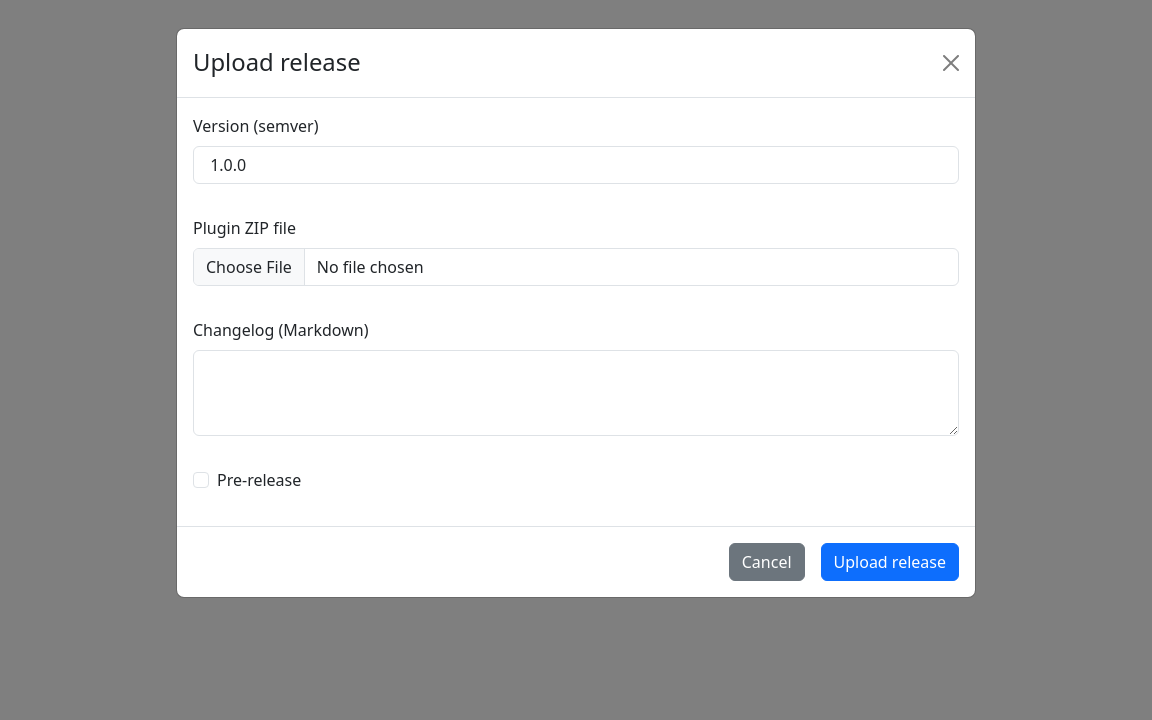
Release form uses the returned publication eligibility and retained operation › closes only after a confirmed eligible response (eligible=true)
Earlier steps of the test are not shown.
Later steps or results of the test are not shown.
Type " changelog " into the text box named "Changelog (Markdown)".
click(576, 393); type(" changelog ")  # box [193,350,959,436]
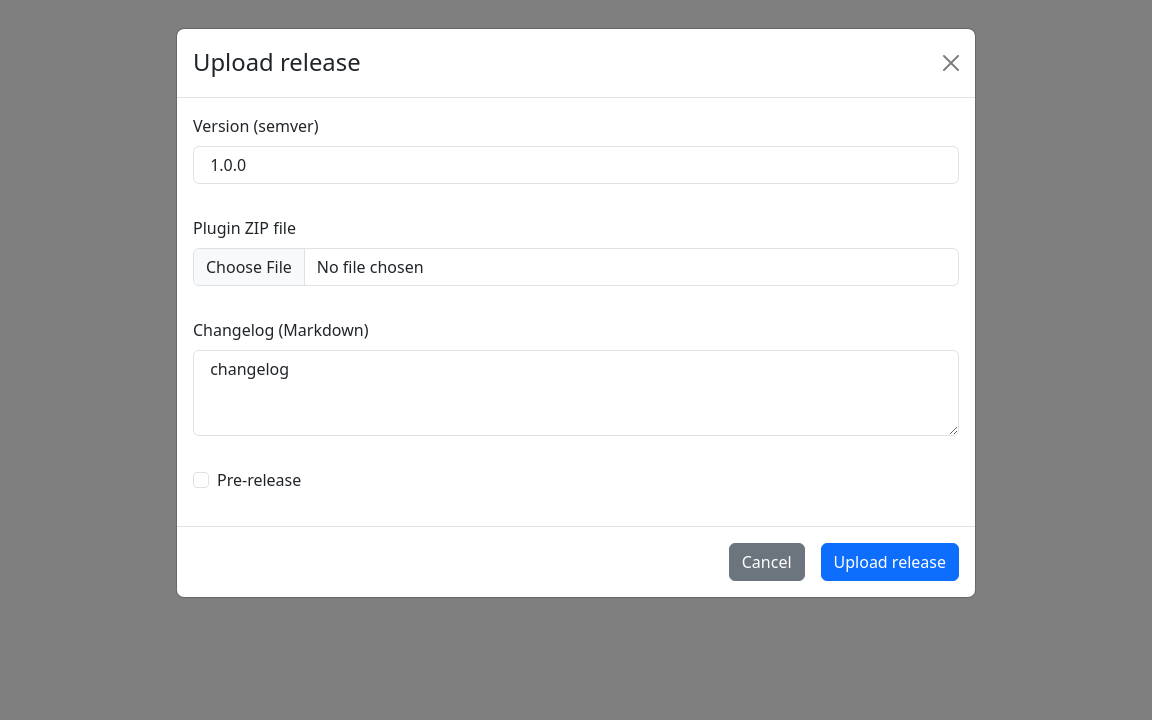
Click the checkbox labelled "Pre-release".
click(201, 480)  # box [193,472,209,488]
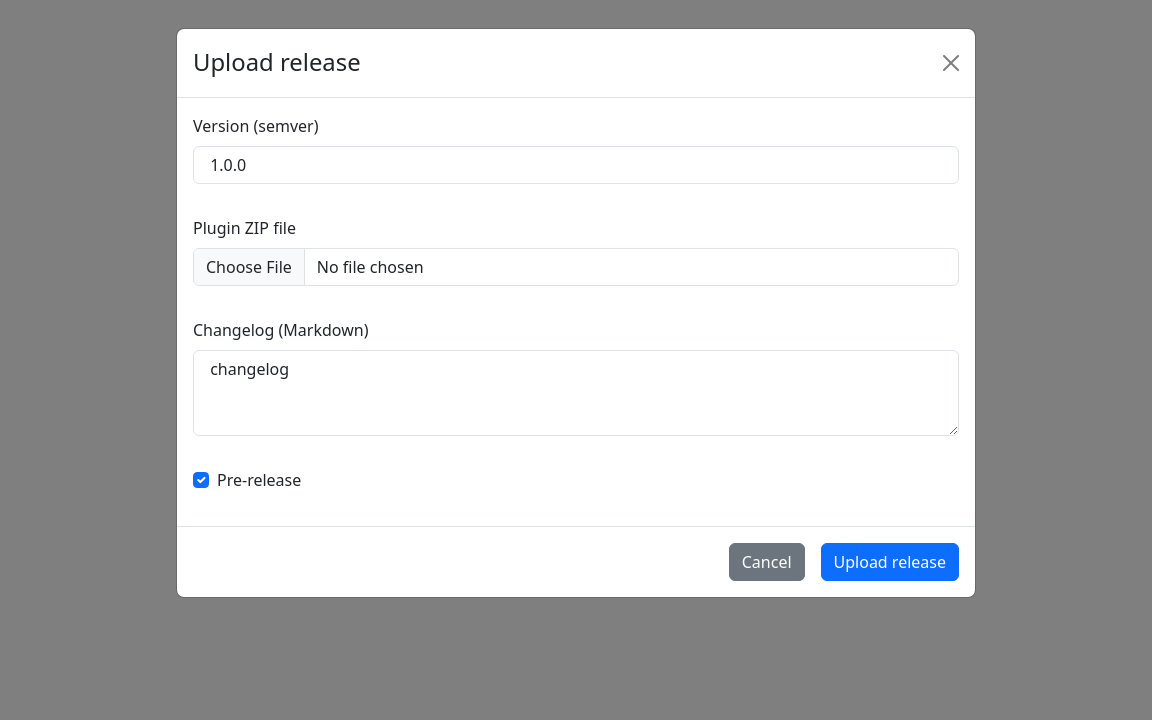
Click the button "Upload release".
click(890, 562)  # box [820,543,959,581]
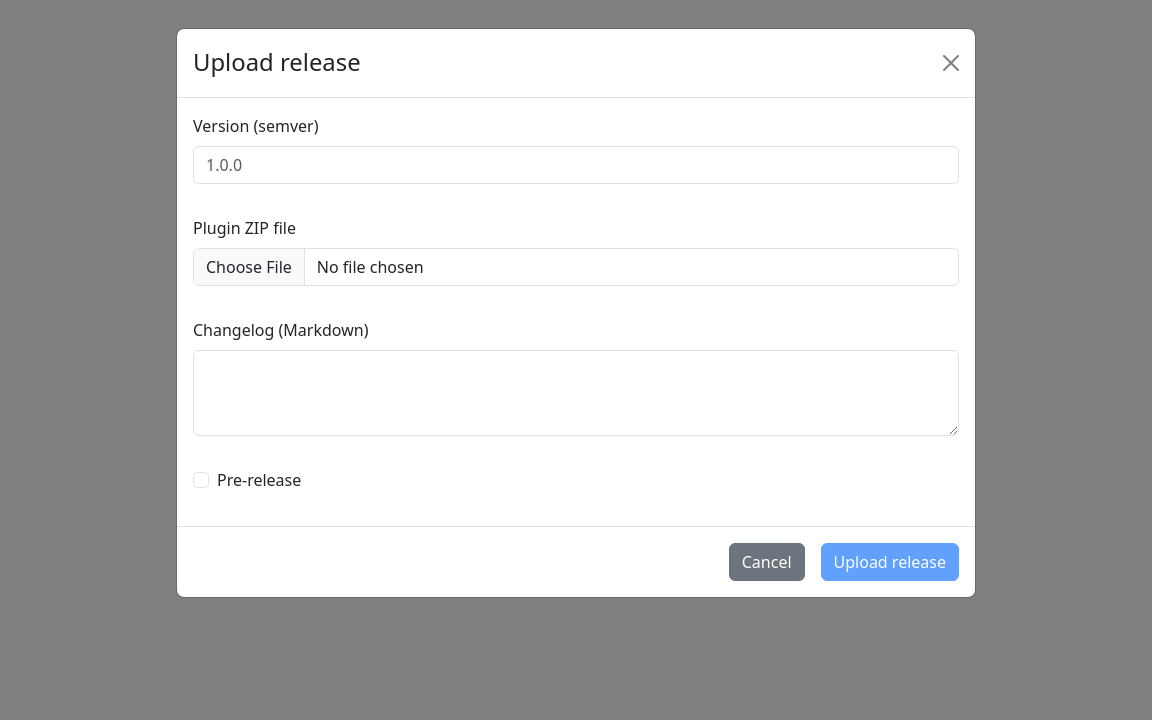
Expected: the field named "Version (semver)" is empty, [193,146,959,184]
